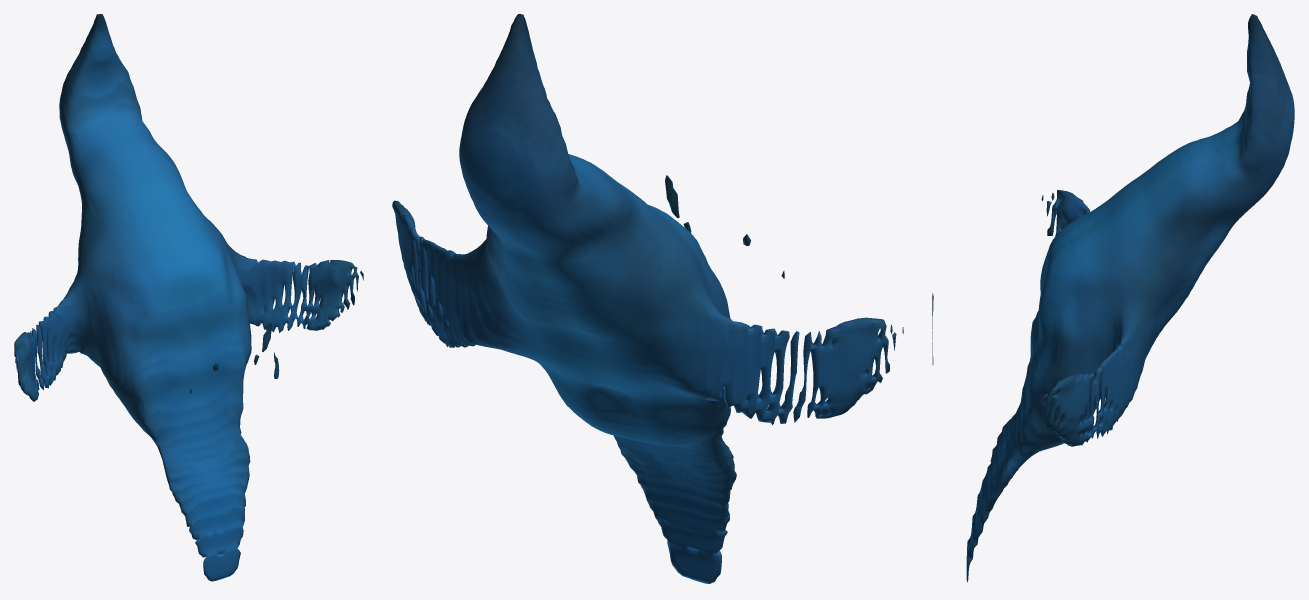
3 renders of one model, left to right at view 1: azimuth 30°, elevation 25°; view 2: azimuth 150°, elevation 25°; view 3: azimuth 270°, elevation 25°, orthographic. The views are drawn at different scales.
Visible parts, largest first — view 1: plyFile; view 2: plyFile; view 3: plyFile.
Part boxes in pixels (x1,y1,x2,y2): plyFile: (14,14,363,581); plyFile: (392,14,903,583); plyFile: (932,14,1294,582).
Bounding box in the file's own units: 148 × 195 × 113.
